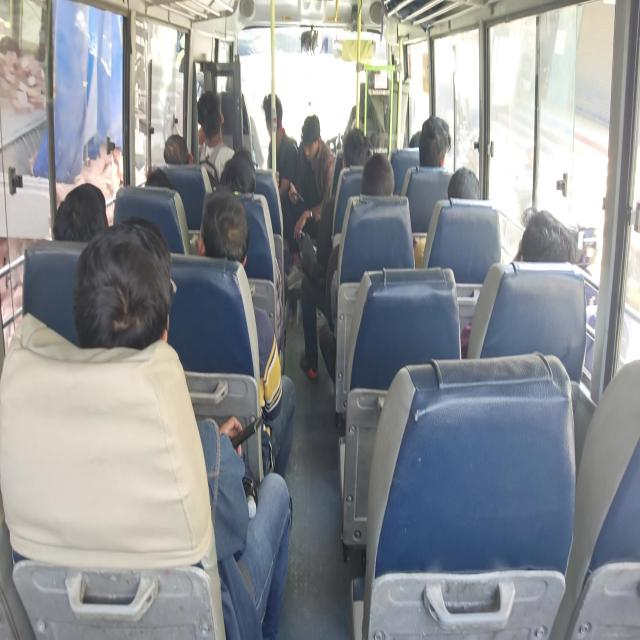person: (90, 225, 168, 336), (196, 188, 245, 272), (53, 190, 111, 250), (524, 202, 568, 261), (189, 101, 247, 144), (220, 156, 261, 210), (139, 159, 174, 215), (449, 165, 495, 206), (422, 122, 446, 186), (256, 95, 289, 139), (294, 124, 321, 170), (363, 163, 389, 209), (338, 136, 363, 172), (166, 134, 194, 166), (235, 143, 261, 172), (407, 133, 427, 154)
